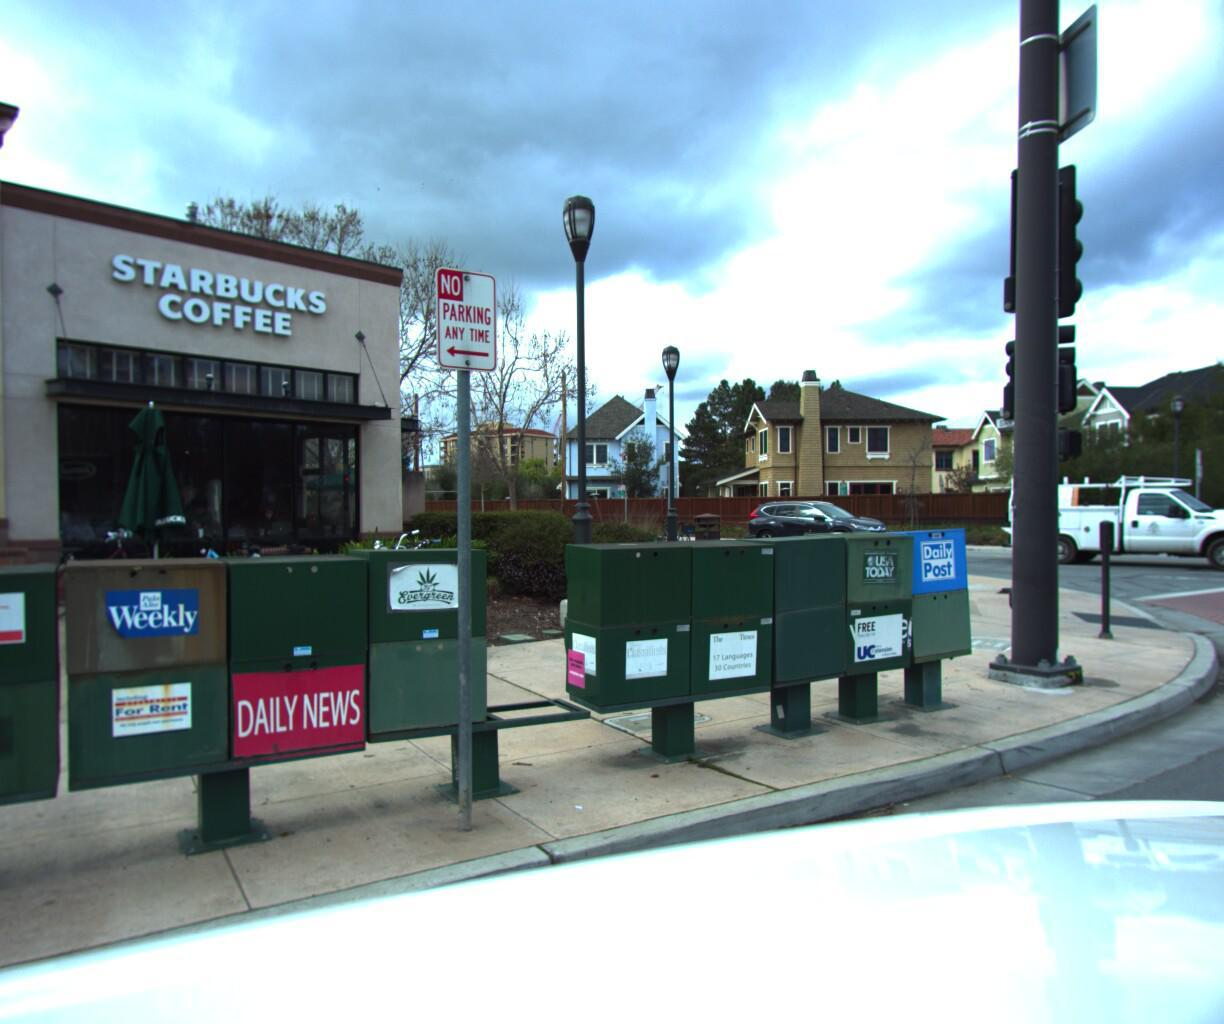bicycle: (324, 531, 489, 669), (371, 533, 521, 670), (74, 531, 250, 636), (151, 527, 328, 621), (651, 515, 711, 556)
car: (1001, 462, 1224, 571), (748, 496, 904, 551)
